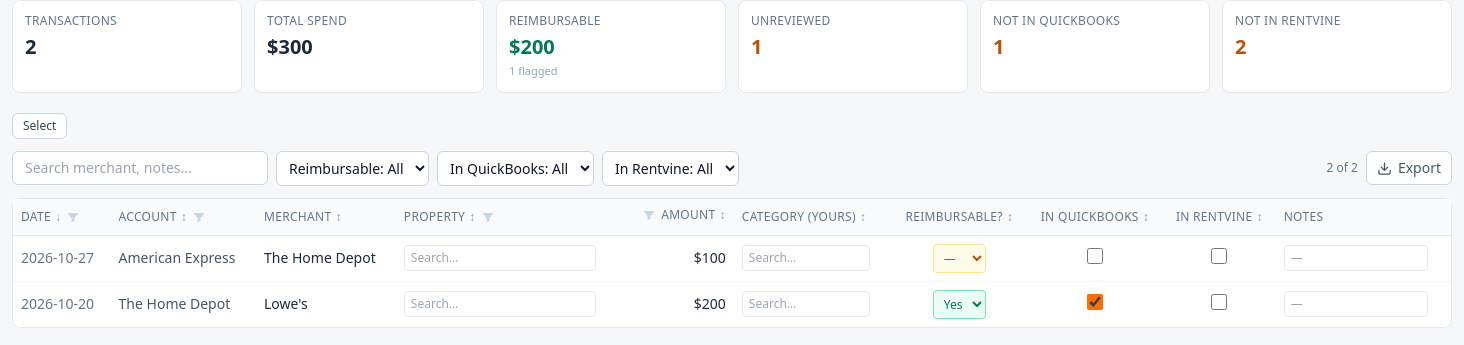
Test: TransactionsTable › category search box › shows the saved spelling the server chose
Type "pay roll" into the field named "category-t1" at (806, 258), box [742, 245, 870, 271]
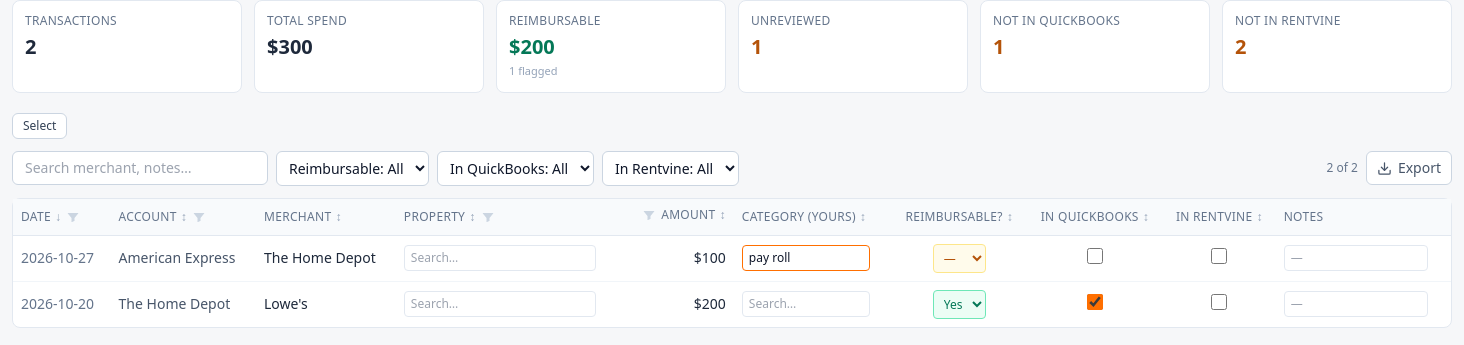
Press Tab
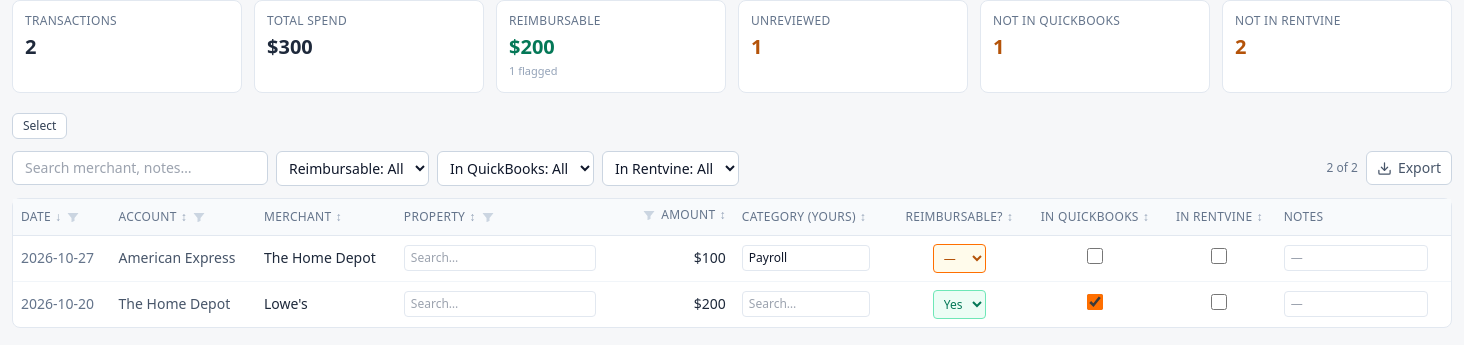
Expected: the field showing "Payroll" is shown, [742, 245, 870, 271]
